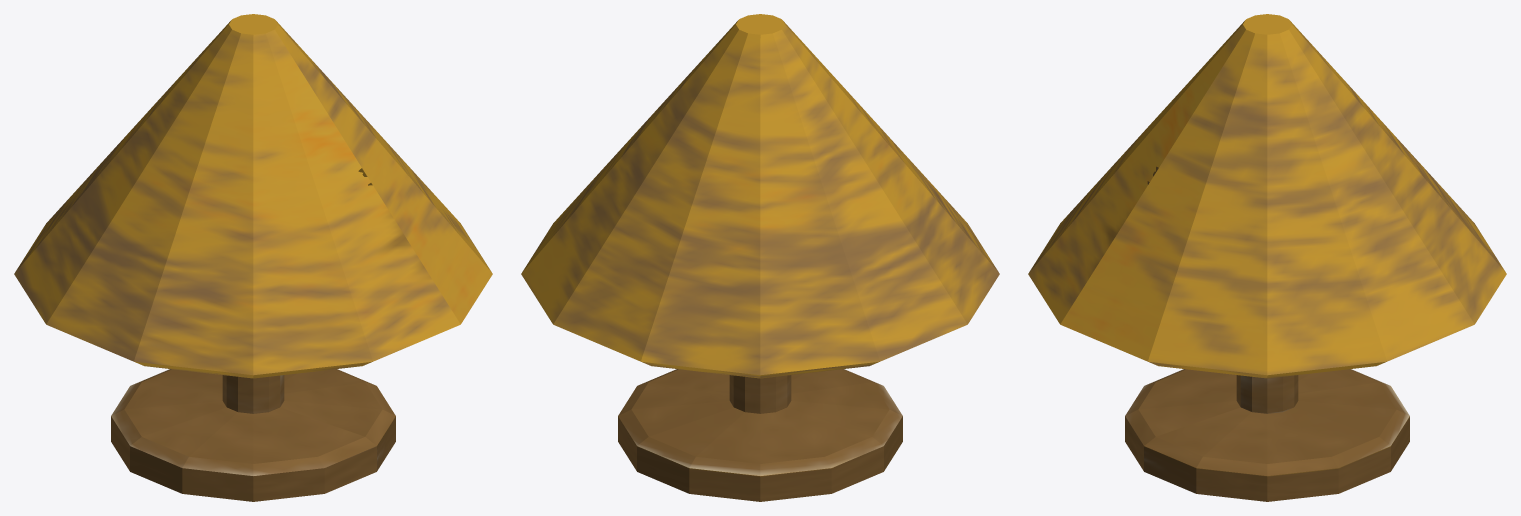
The model's file is lampa.fbx.
The picture shows the model from 3 angles, left to right: view 1: azimuth 30°, elevation 25°; view 2: azimuth 150°, elevation 25°; view 3: azimuth 270°, elevation 25°; orthographic projection.
Parts seen in each view (by area): view 1: Cylinder; view 2: Cylinder; view 3: Cylinder.
Part boxes in pixels (bbox=[...]): Cylinder: bbox=[14, 14, 492, 501]; Cylinder: bbox=[521, 14, 999, 501]; Cylinder: bbox=[1028, 14, 1506, 501].
Size of the model in its own units: 40.34 by 38.8 by 40.34.
Materials: 1 (1 with a texture image).
